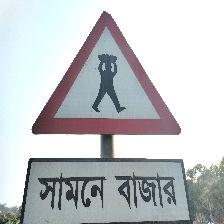Market-in-front: (20, 10, 192, 223)
